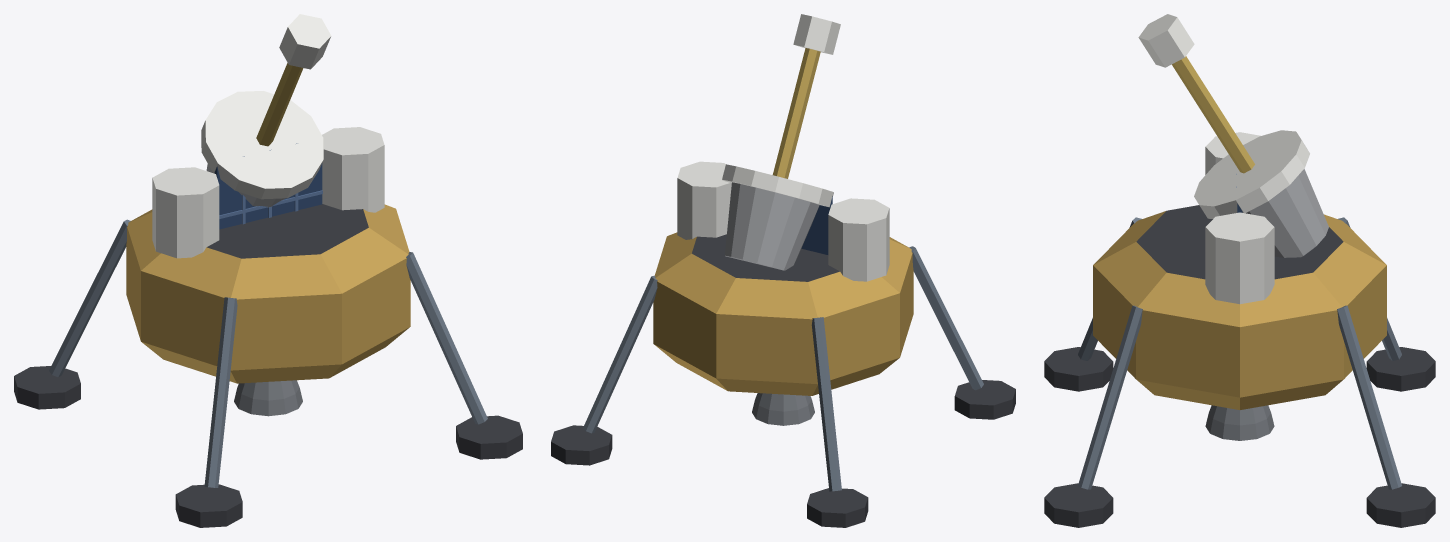
Rendered from Pay_Lander.fbx.
The picture shows the model from 3 angles, left to right: view 1: azimuth 30°, elevation 25°; view 2: azimuth 150°, elevation 25°; view 3: azimuth 270°, elevation 25°; orthographic projection. The views are drawn at different scales.
Visible parts, largest first — view 1: Pay_Lander; view 2: Pay_Lander; view 3: Pay_Lander.
Boxes of the visible parts, <box> form: Pay_Lander: <box>14,14,522,527</box>; Pay_Lander: <box>551,14,1015,527</box>; Pay_Lander: <box>1044,14,1435,527</box>.
Bounding box in the file's own units: 2.27 × 2.73 × 2.27.
1 material, 1 textured.
